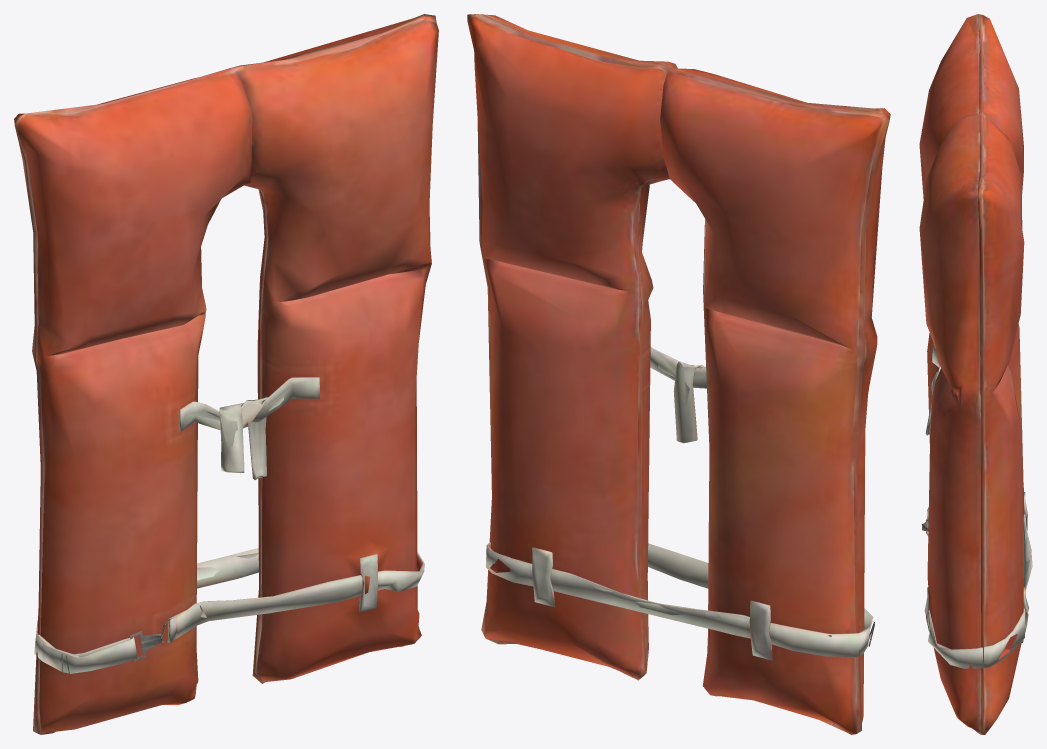
File: backpack_schwimmweste.glb
3 views of the same model, side by side, from view 1: azimuth 30°, elevation 25°; view 2: azimuth 150°, elevation 25°; view 3: azimuth 270°, elevation 25° (orthographic). The views are drawn at different scales.
Parts seen in each view (by area): view 1: origin; view 2: origin; view 3: origin.
Boxes of the visible parts, x1,y1,x2,y2 form: origin: (14, 14, 438, 734); origin: (467, 14, 890, 734); origin: (919, 14, 1032, 734).
Bounding box in the file's own units: 0.6919 × 0.9877 × 0.1815.
Materials: 1 (1 with a texture image).
